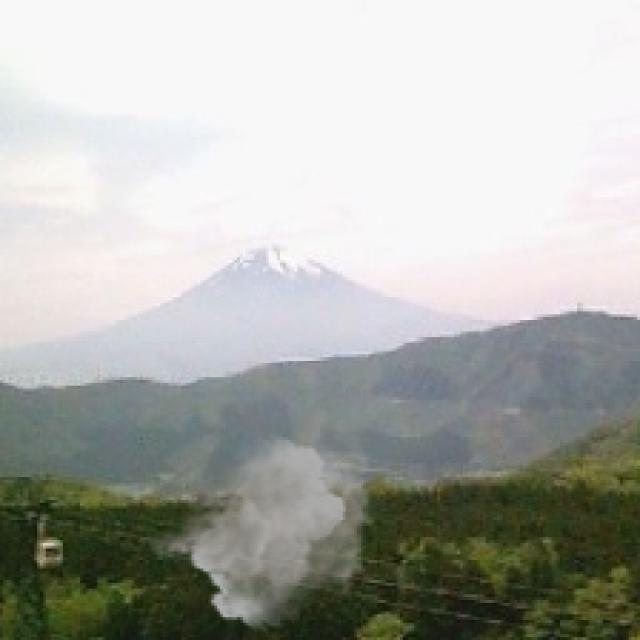smoke: (146, 406, 377, 631)
